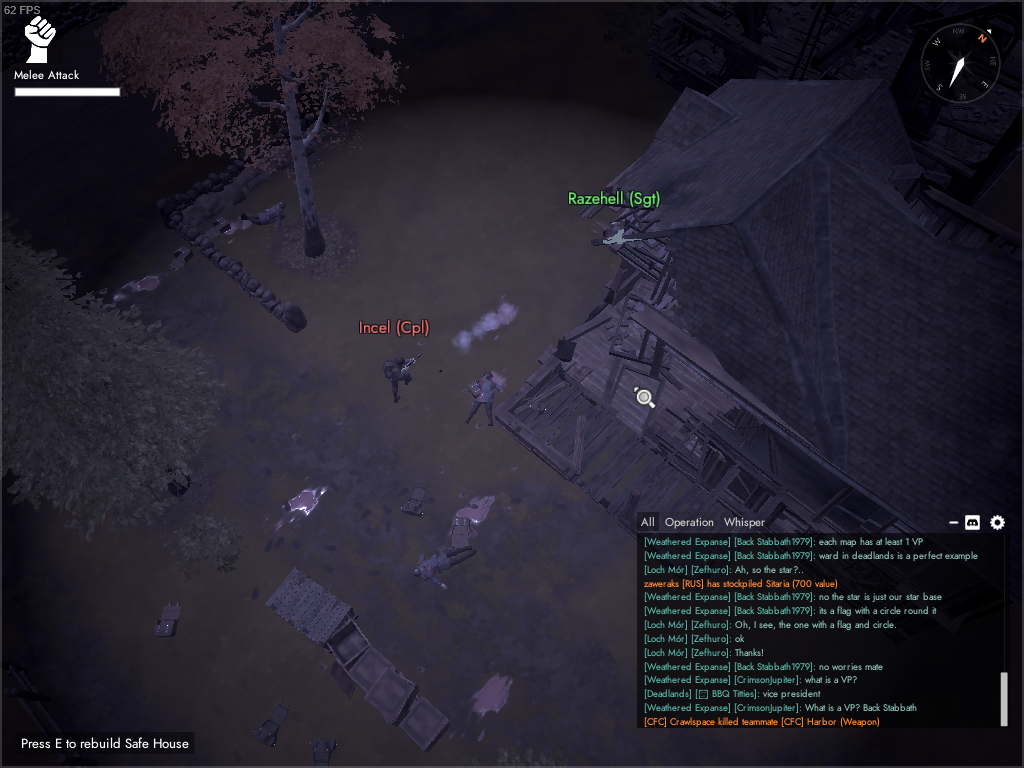backpack: (249, 702, 291, 750), (151, 597, 185, 643), (396, 478, 433, 520), (442, 512, 479, 553), (301, 736, 340, 768), (162, 242, 199, 275), (201, 216, 233, 244), (463, 373, 494, 400)
colonial: (380, 348, 419, 405)
dead_player: (410, 537, 478, 595), (457, 366, 505, 431), (238, 196, 288, 232)
player: (601, 219, 646, 248)
